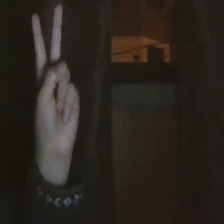V: (18, 1, 87, 163)
